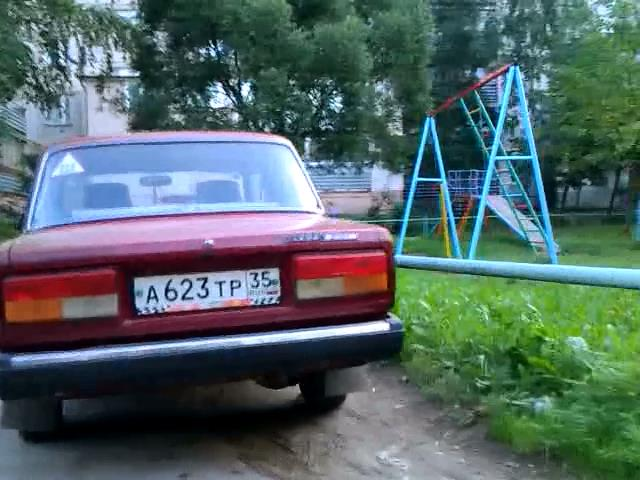car license plate: (130, 265, 282, 317)
